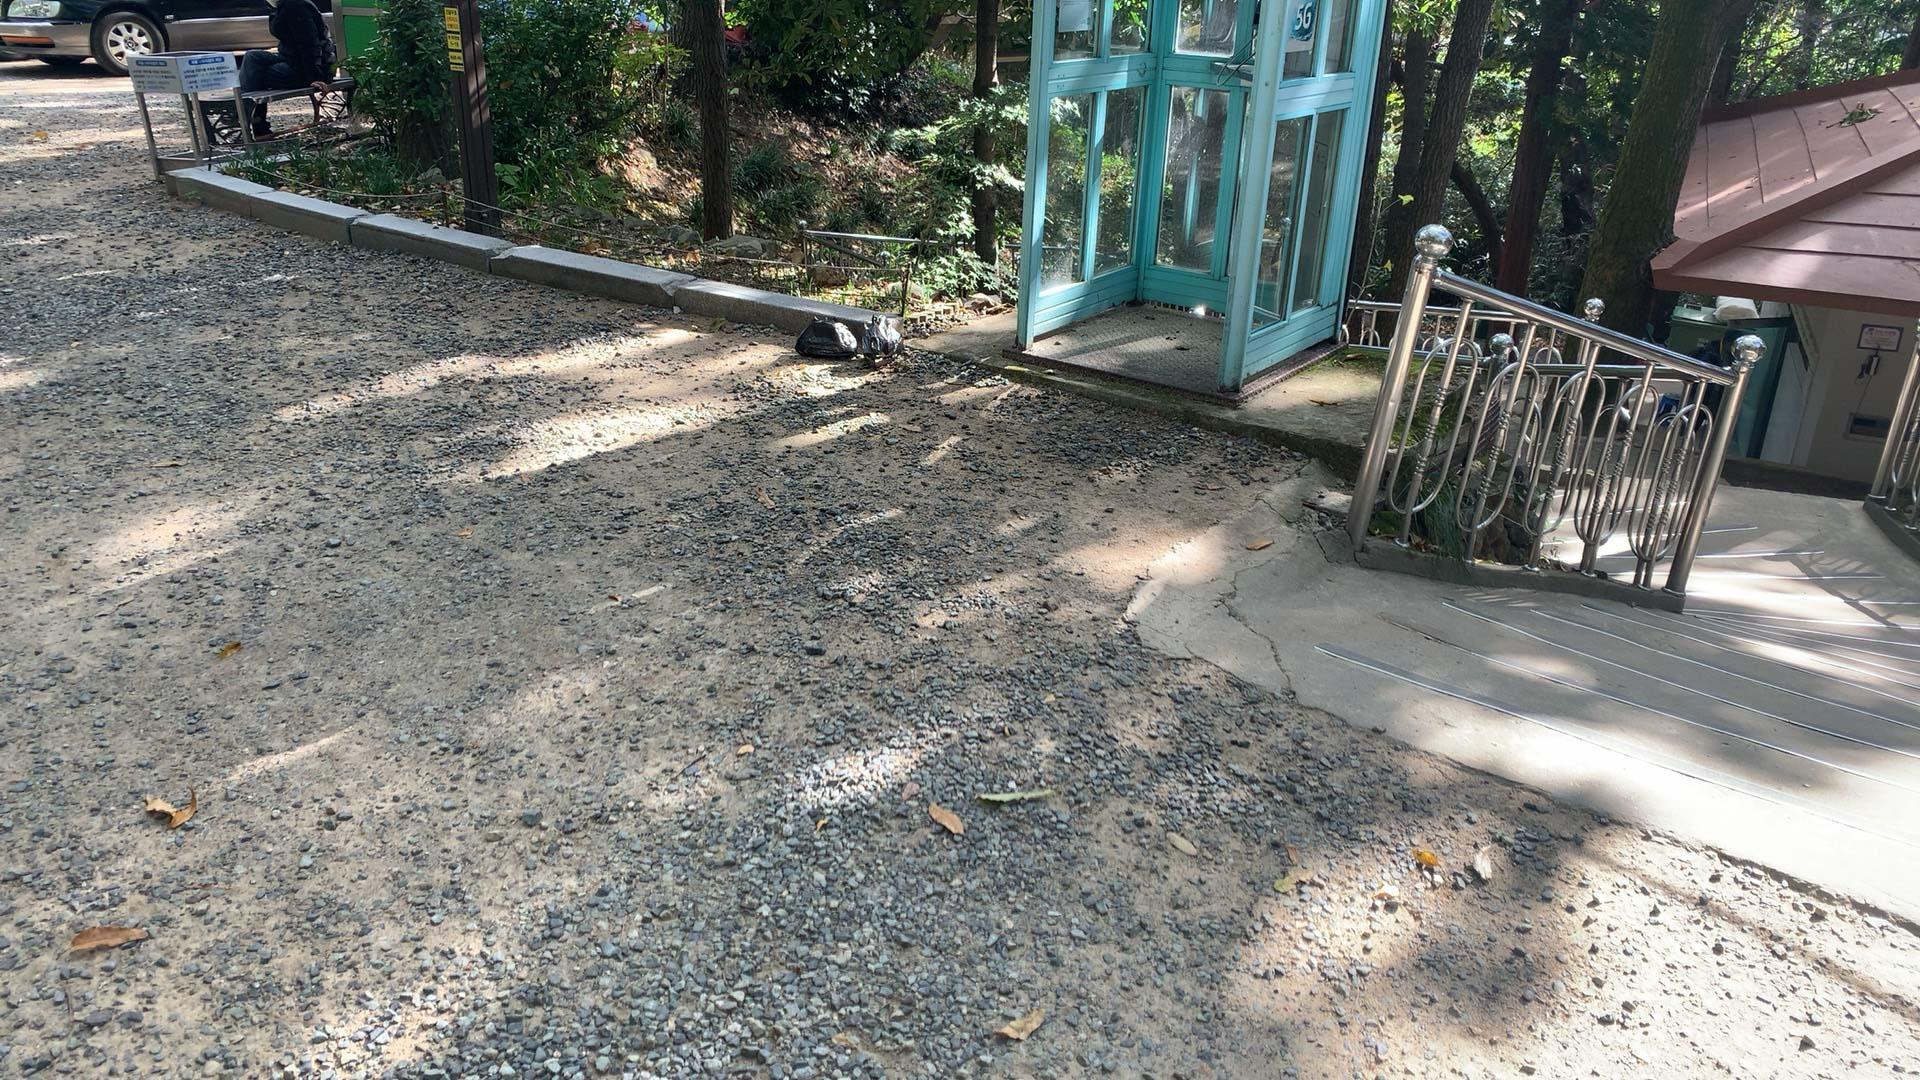black_bag: (791, 313, 858, 361), (856, 311, 909, 372)
